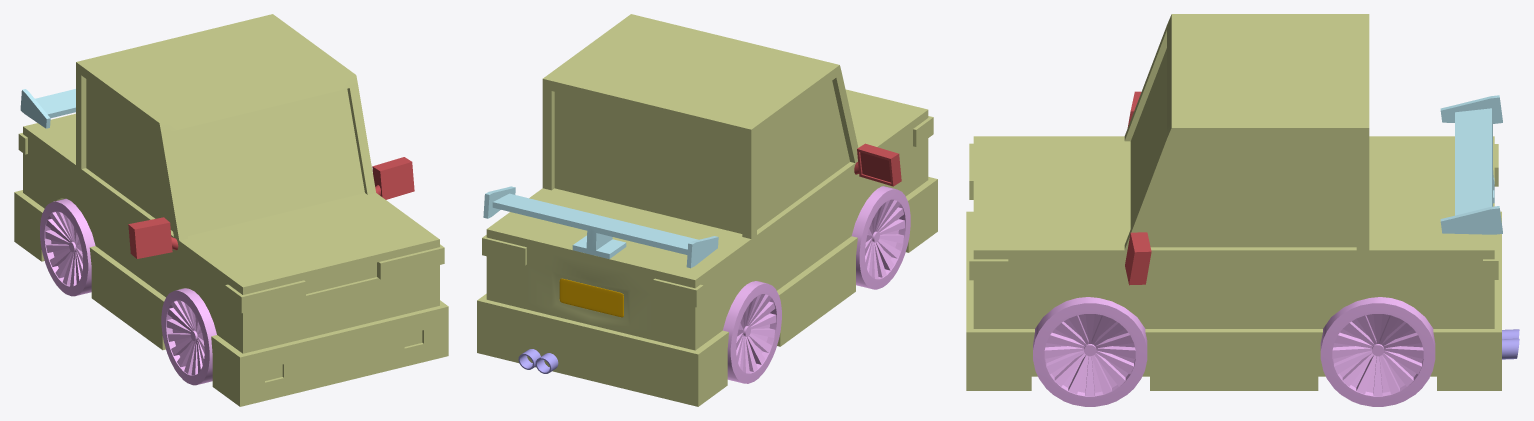
Rendered from Carro2Colorir.fbx.
The picture shows the model from 3 angles, left to right: view 1: azimuth 30°, elevation 25°; view 2: azimuth 150°, elevation 25°; view 3: azimuth 270°, elevation 25°; orthographic projection. The views are drawn at different scales.
Parts seen in each view (by area): view 1: Chassi, RodaTrasDir, RodaFrenteDir, EspelhoDir, Aileron, EspelhoEsq; view 2: Chassi, Aileron, RodaTrasDir, RodaFrenteDir, Matricula, EspelhoDir, TuboEscape; view 3: Chassi, RodaTrasEsq, RodaFrenteEsq, Aileron, EspelhoEsq, TuboEscape.
Boxes of the visible parts, left/top/right/bottom form: Chassi: left=14, top=14, right=448, bottom=406; RodaTrasDir: left=40, top=198, right=95, bottom=296; RodaFrenteDir: left=161, top=288, right=216, bottom=385; EspelhoDir: left=128, top=217, right=178, bottom=258; Aileron: left=20, top=89, right=75, bottom=128; EspelhoEsq: left=372, top=157, right=414, bottom=199; Chassi: left=477, top=14, right=937, bottom=406; Aileron: left=483, top=186, right=718, bottom=268; RodaTrasDir: left=723, top=281, right=781, bottom=383; RodaFrenteDir: left=851, top=186, right=910, bottom=289; Matricula: left=559, top=278, right=623, bottom=317; EspelhoDir: left=854, top=143, right=901, bottom=186; TuboEscape: left=518, top=349, right=558, bottom=373; Chassi: left=966, top=14, right=1501, bottom=390; RodaTrasEsq: left=1320, top=297, right=1435, bottom=406; RodaFrenteEsq: left=1033, top=297, right=1147, bottom=406; Aileron: left=1440, top=95, right=1502, bottom=234; EspelhoEsq: left=1125, top=232, right=1151, bottom=285; TuboEscape: left=1502, top=329, right=1519, bottom=359.
Size of the model in its own units: 6.99 by 5.57 by 10.17.
